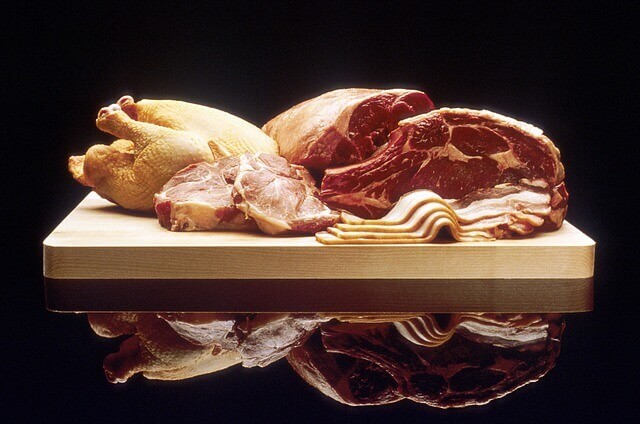bacon: (75, 80, 565, 242), (68, 307, 584, 410)
